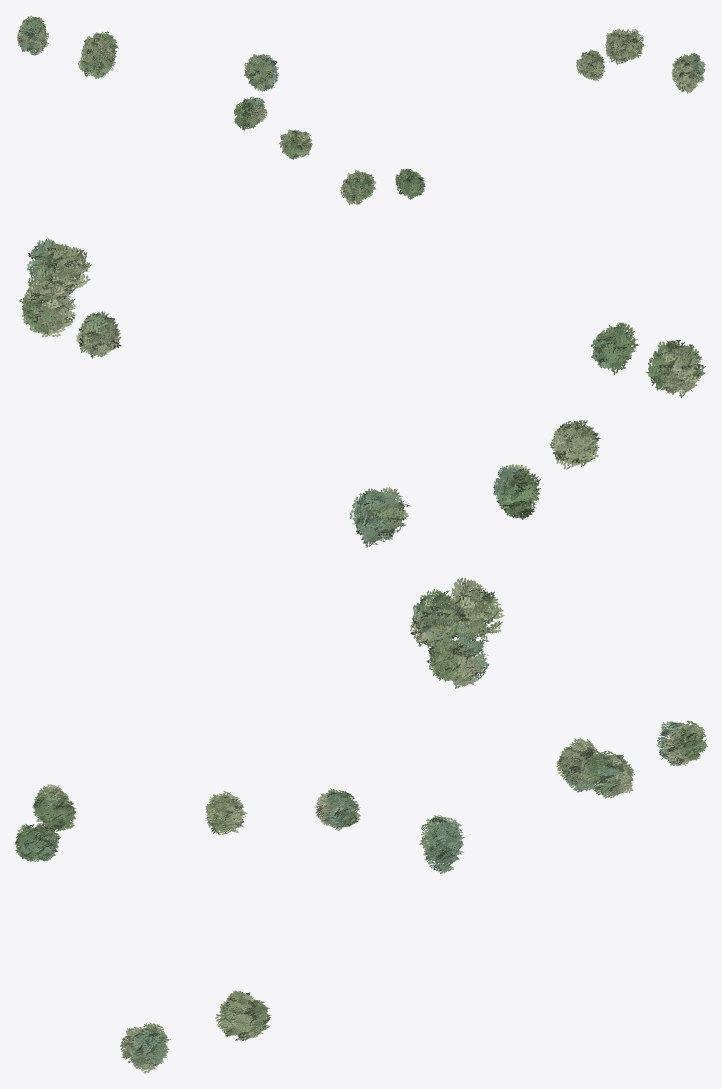
The model's file is campus-tree--4_-2-near.glb.
3 renders of one model, top to bottom at view 1: azimuth 30°, elevation 25°; view 2: azimuth 150°, elevation 25°; view 3: azimuth 270°, elevation 25°, orthographic. The views are drawn at different scales.
Visible parts, largest first — view 1: Campus leaf canopy; view 2: Campus leaf canopy; view 3: Campus leaf canopy.
Part boxes in pixels (x1,y1,x2,y2): Campus leaf canopy: [17, 15, 705, 205]; Campus leaf canopy: [19, 238, 705, 688]; Campus leaf canopy: [15, 720, 707, 1073].
Size of the model in its own units: 78.74 by 7.1 by 71.24.
Materials: 1 (1 with a texture image).
